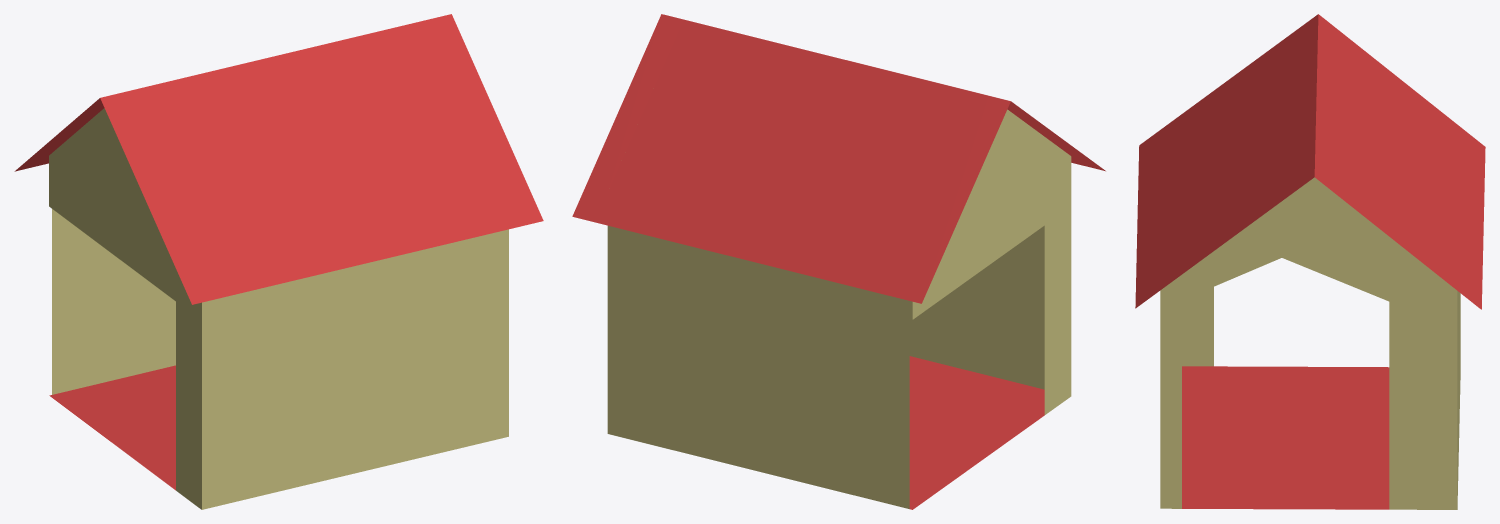
The picture shows the model from 3 angles, left to right: view 1: azimuth 30°, elevation 25°; view 2: azimuth 150°, elevation 25°; view 3: azimuth 270°, elevation 25°; orthographic projection. The views are drawn at different scales.
Size of the model in its own units: 11.91 by 10.7 by 11.55.
